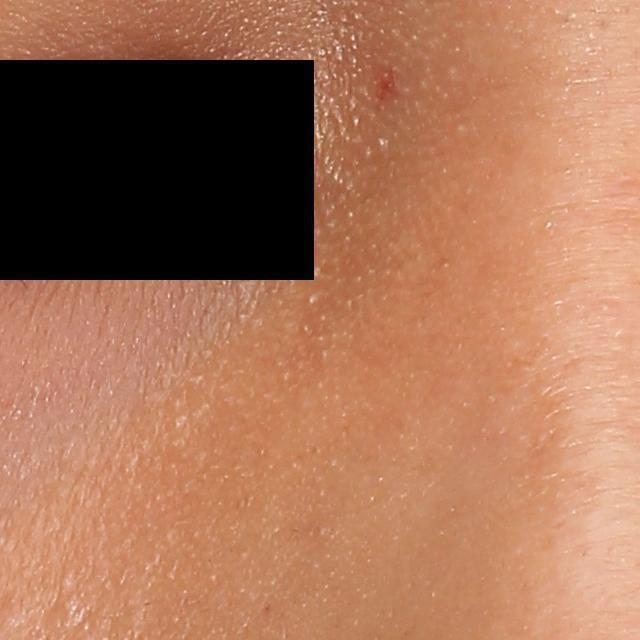nevus: (368, 64, 402, 111)
